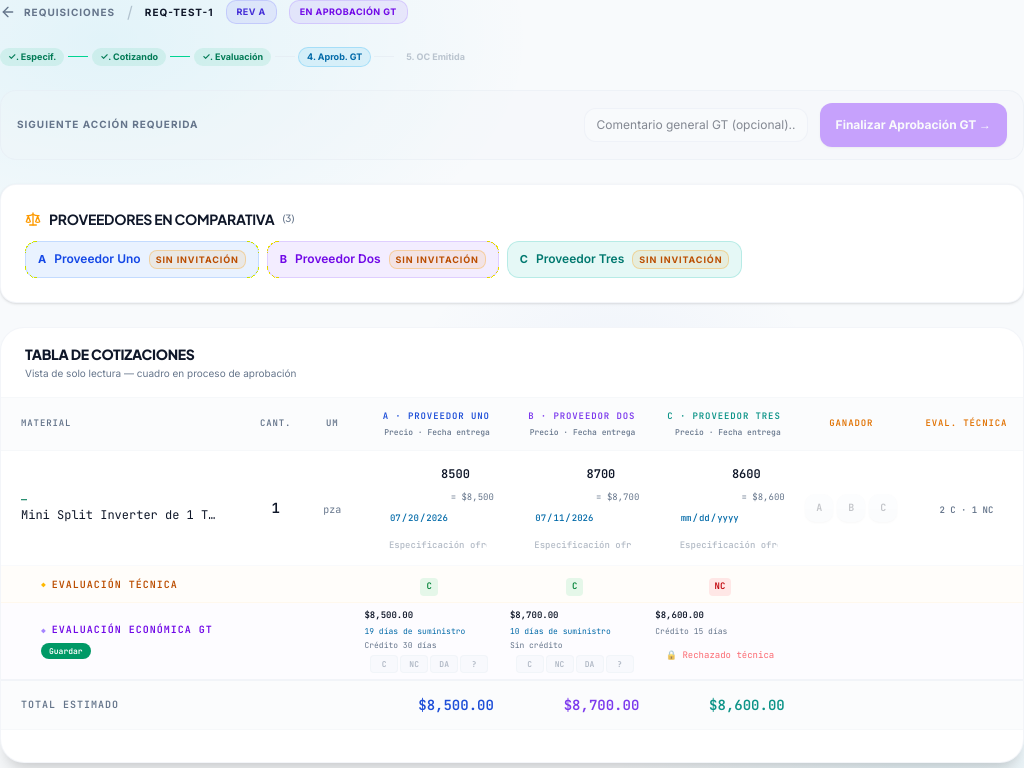
Scenario: ComparativaDetail — evaluación económica GT inline en Tabla de Cotizaciones › marcar "?" oculta el guardado individual y muestra el botón agregado de GT
Expected: the text "Mini Split Inverter de 1 Tonelada" is shown, x1=21 y1=507 x2=221 y2=523
Expected: the button with test id "gt-guardar-linea-linea-1" is shown, x1=41 y1=643 x2=91 y2=659
Click the button "?" below "Crédito 30 días".
click(474, 664)  # box x1=460 y1=654 x2=488 y2=672
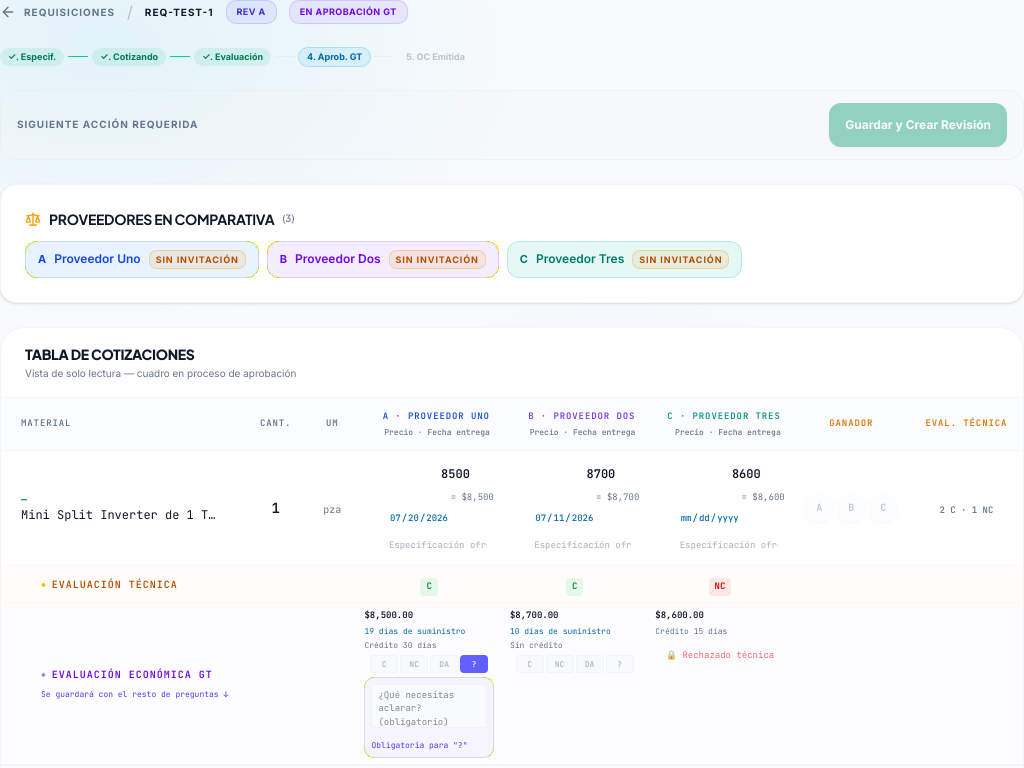
Now the button with test id "gt-guardar-linea-linea-1" is gone
Now the button with test id "gt-guardar-agregado" is shown, box x1=829 y1=102 x2=1007 y2=146
